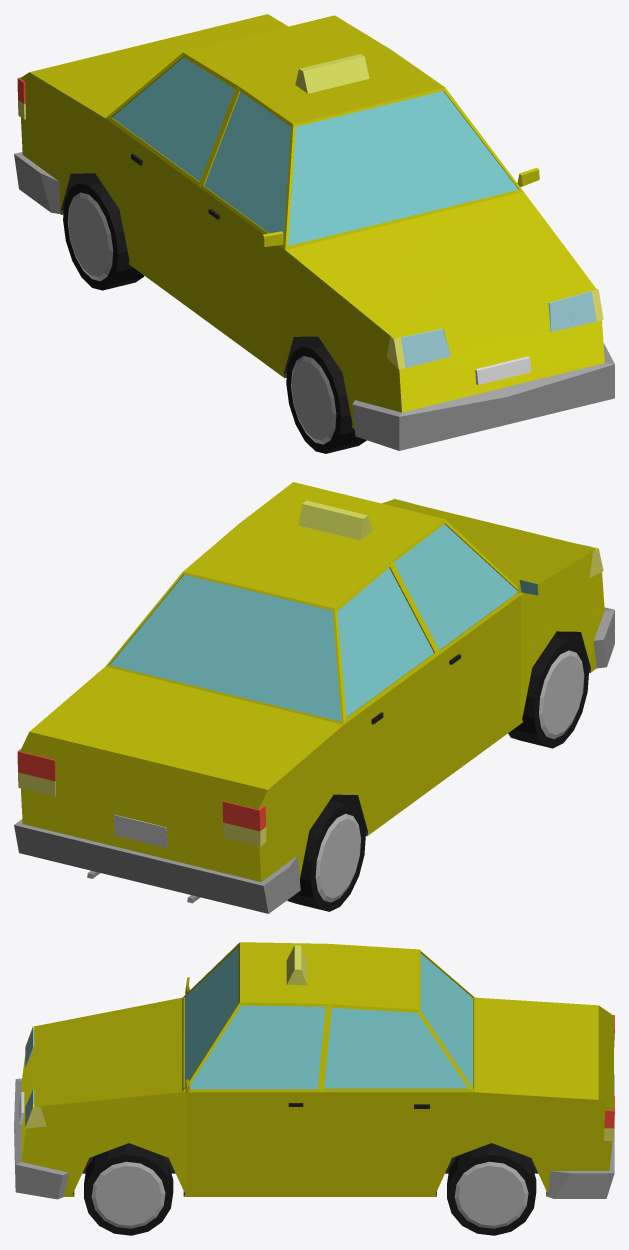
Rendered from lp_car12.fbx.
3 views of the same model, one above another, from view 1: azimuth 30°, elevation 25°; view 2: azimuth 150°, elevation 25°; view 3: azimuth 270°, elevation 25° (orthographic). The views are drawn at different scales.
Visible parts, largest first — view 1: Car, wheel_BR, wheel_FR; view 2: Car, wheel_FR, wheel_BR; view 3: Car, wheel_FL, wheel_BL.
Part boxes in pixels (left/top/right/bottom): Car: left=14, top=14, right=614, bottom=450; wheel_BR: left=63, top=178, right=144, bottom=290; wheel_FR: left=286, top=341, right=366, bottom=453; Car: left=14, top=482, right=614, bottom=913; wheel_FR: left=508, top=637, right=588, bottom=748; wheel_BR: left=287, top=800, right=365, bottom=911; Car: left=14, top=942, right=614, bottom=1199; wheel_FL: left=84, top=1143, right=173, bottom=1235; wheel_BL: left=447, top=1143, right=536, bottom=1235.
Bounding box in the file's own units: 231 × 226 × 537.
